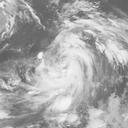cyclone: (38, 36, 95, 100)
